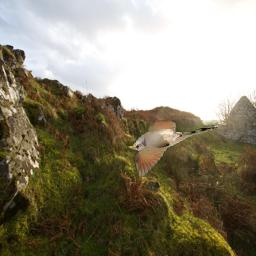Cuckoo: (128, 121, 219, 178)
